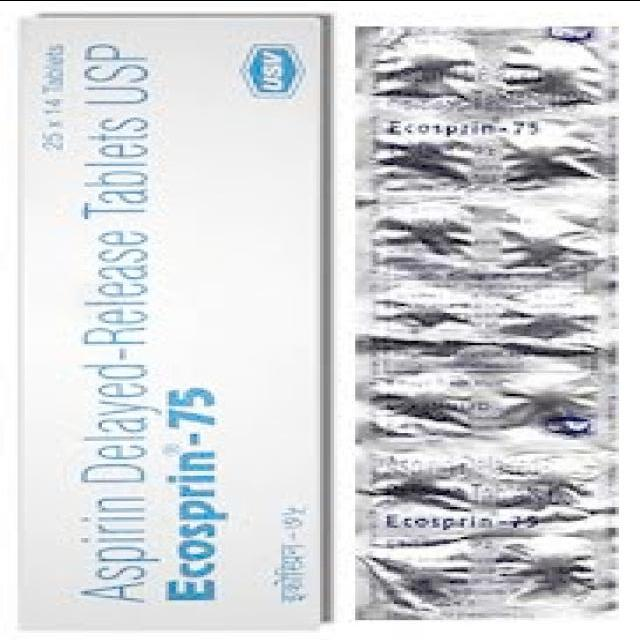authentic: (3, 4, 338, 634), (344, 16, 634, 630)
